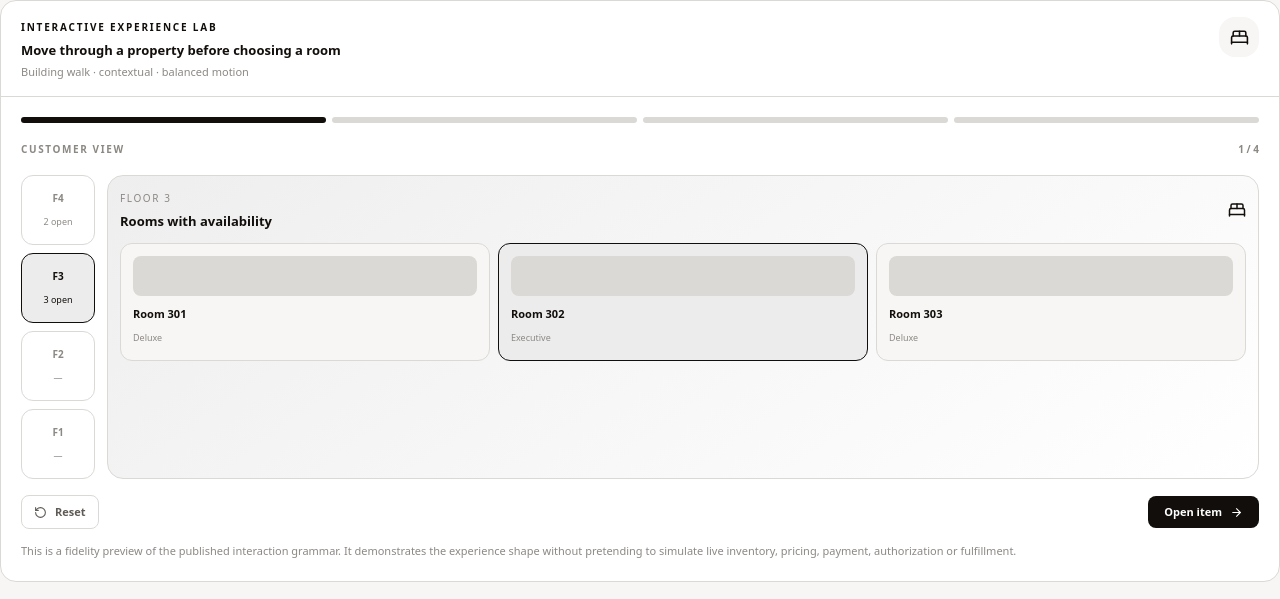
Test: ExperienceSimulator › renders hotel floor traversal and preserves room identity into the dossier
Check: the heading "Rooms with availability" is shown, box x1=120 y1=212 x2=272 y2=231
Click the button "Room 302 Executive". click: [683, 276]
box: x1=498 y1=243 x2=868 y2=361
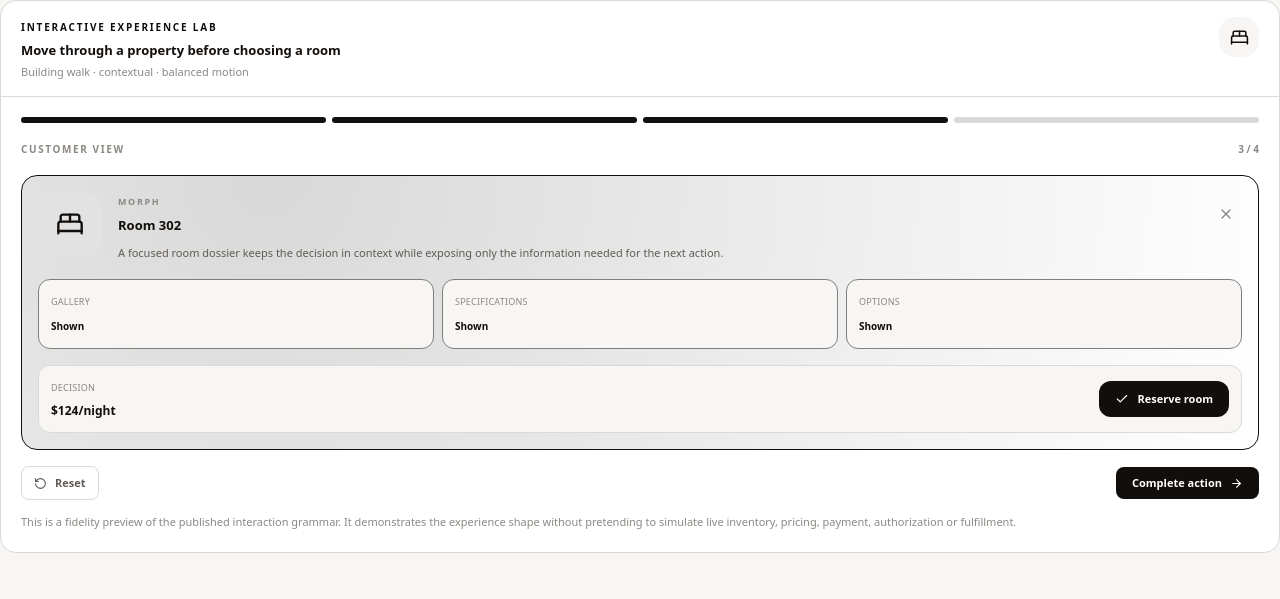
Check: the heading "Room 302" is shown, box x1=118 y1=216 x2=181 y2=235
